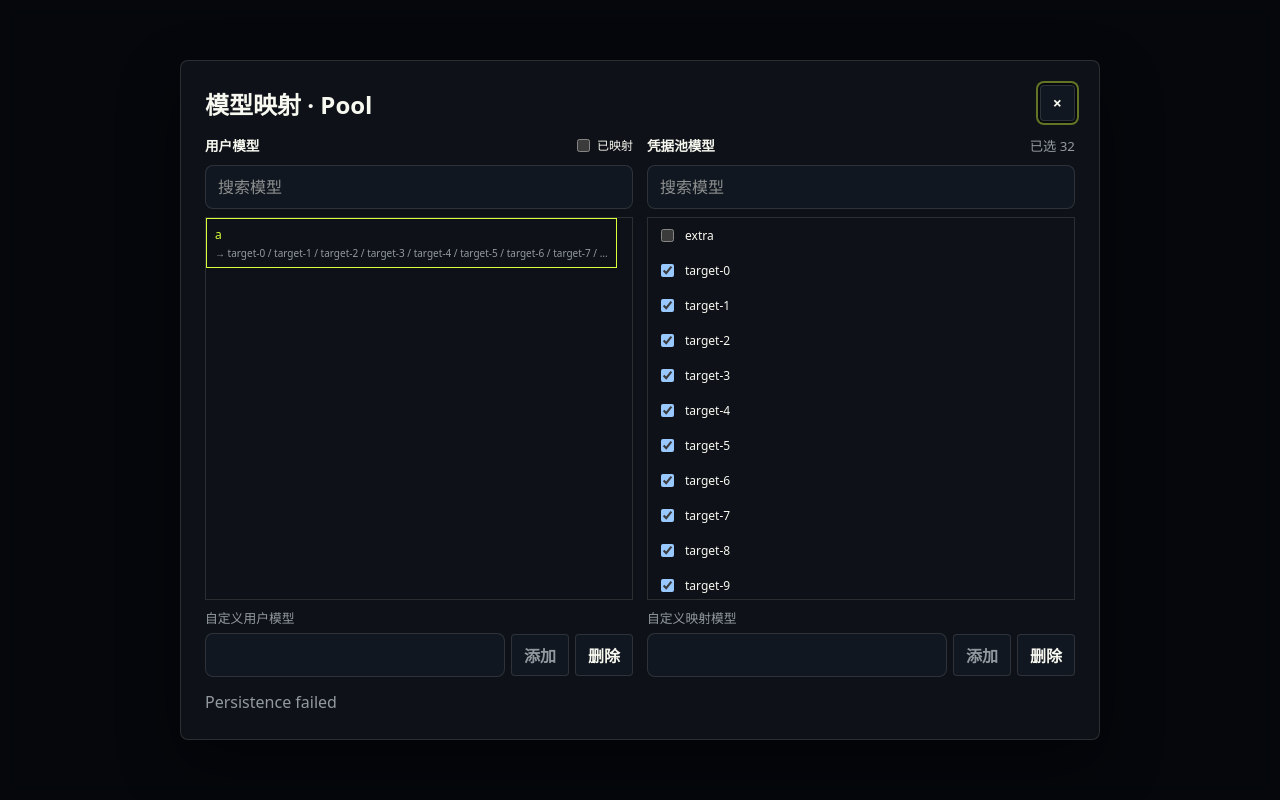
rejects invalid or over-limit edits without autosaving and exposes persistence errors
The width and height of the screenshot is (1280, 800).
Expected: the message reads "Persistence failed", [205,691,337,713]
Click the checkbox labelled "extra" at {"x": 668, "y": 236}, box [661,229,674,242]
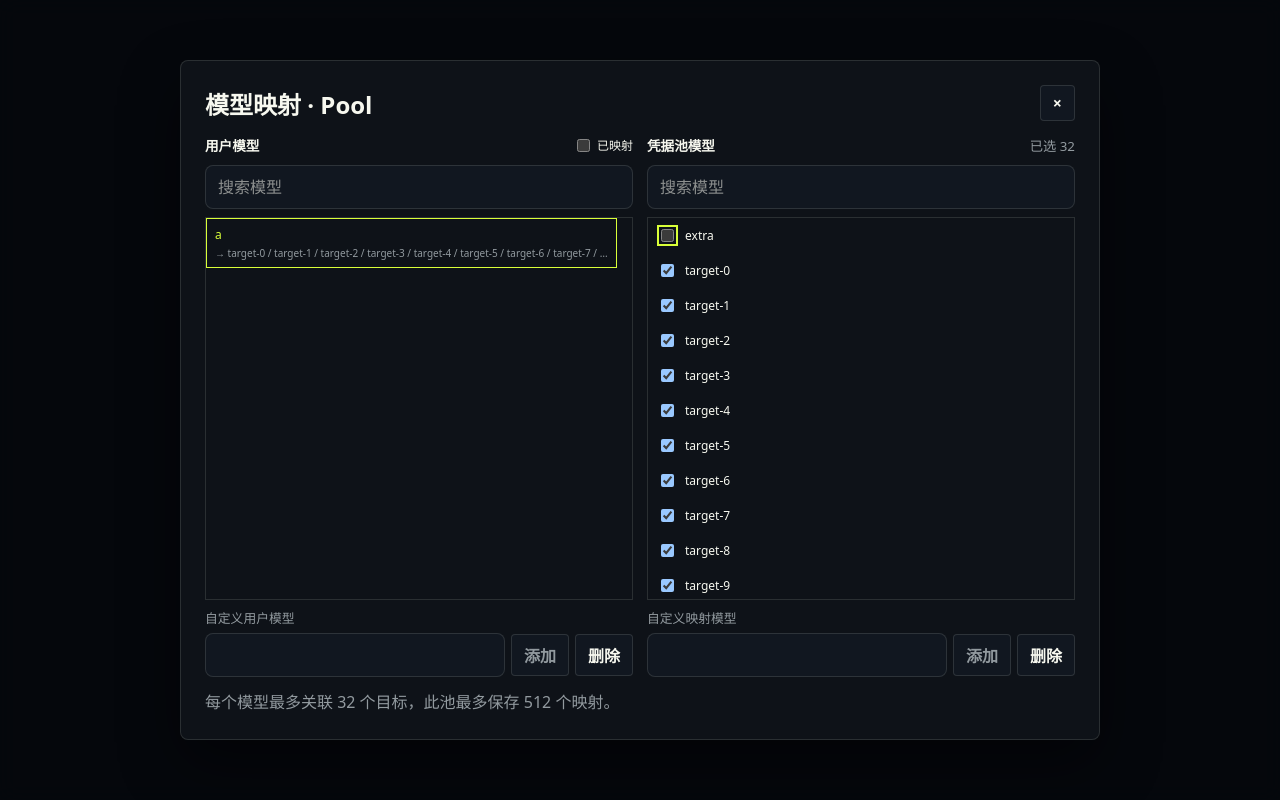
Expected: the message shows "最多关联 32", [205,691,619,713]
Type "bad*" into the field named "自定义映射模型" at {"x": 797, "y": 655}, box [647,633,947,677]
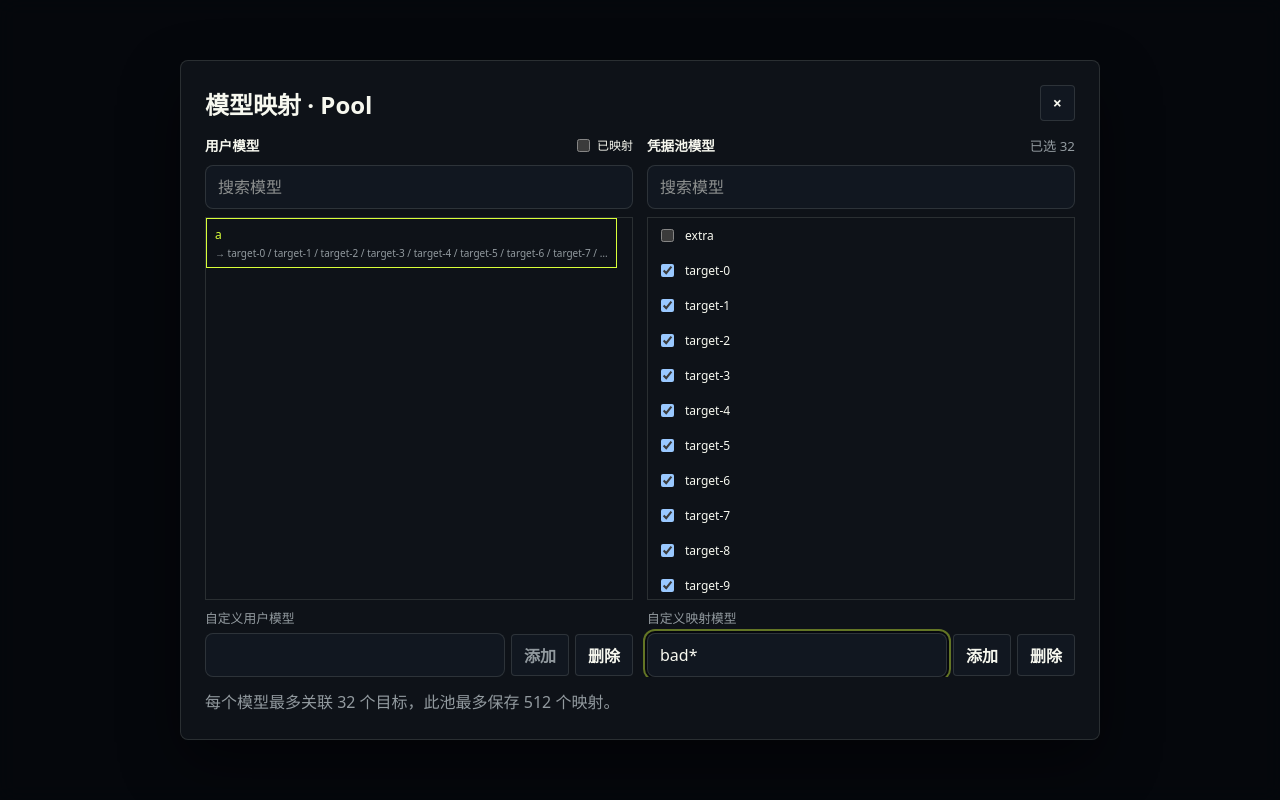
Click the button with aria-label "添加映射模型" at {"x": 982, "y": 655}, box [953,634,1011,676]
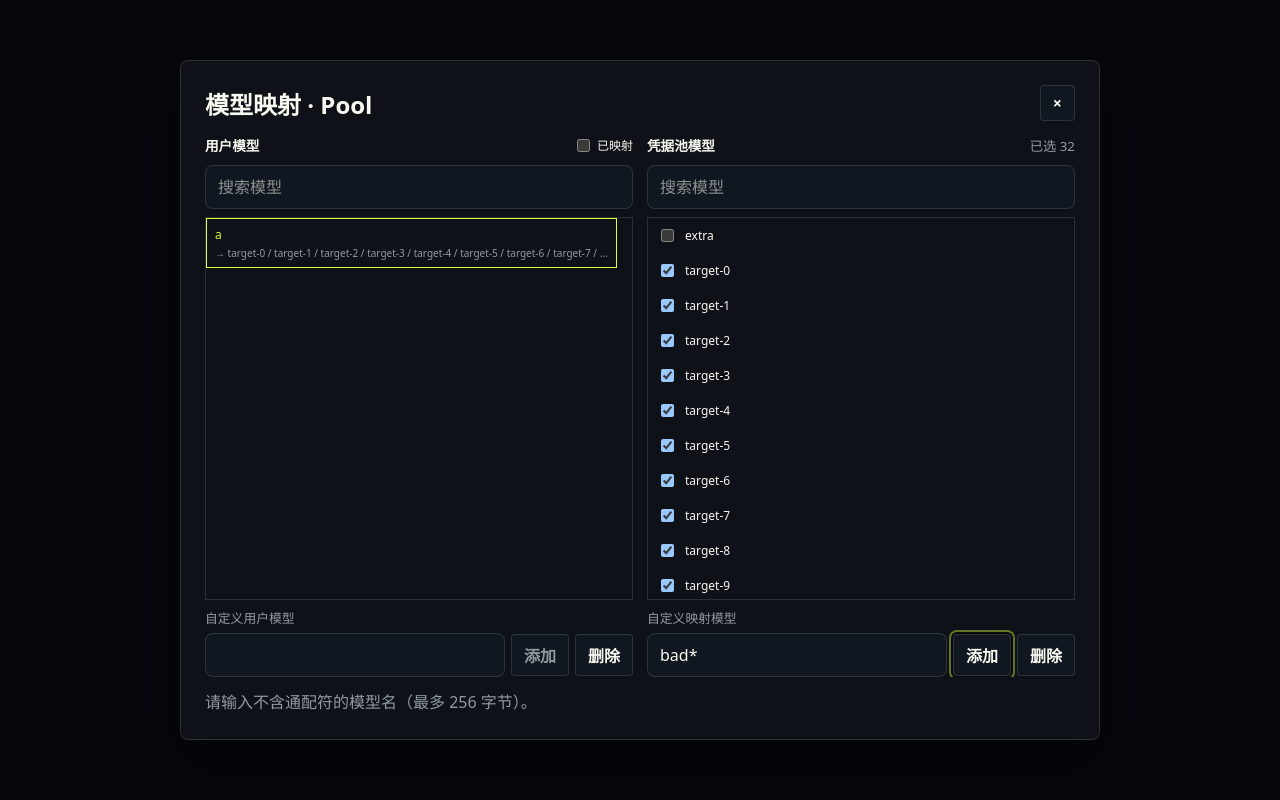
Expected: the message shows "不含通配符", [205,691,537,713]
